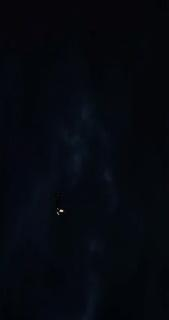Plane: (50, 202, 69, 222)
